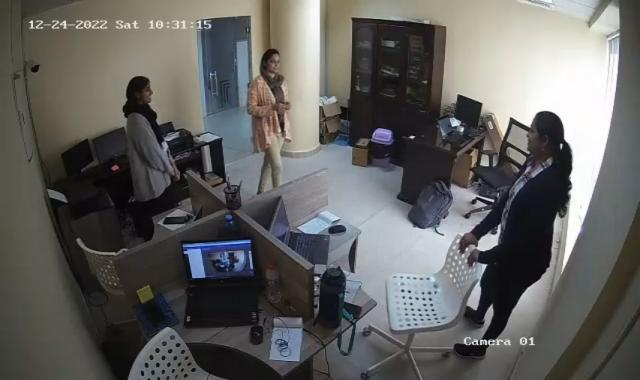no_hairnet: (522, 110, 572, 162), (123, 73, 154, 107), (257, 48, 283, 74)
